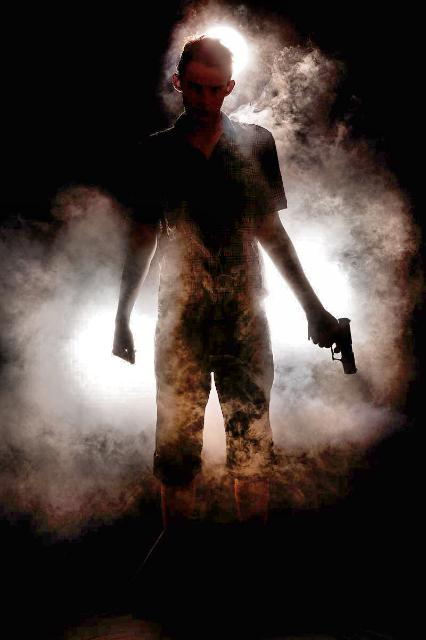pistol: (303, 312, 362, 378)
